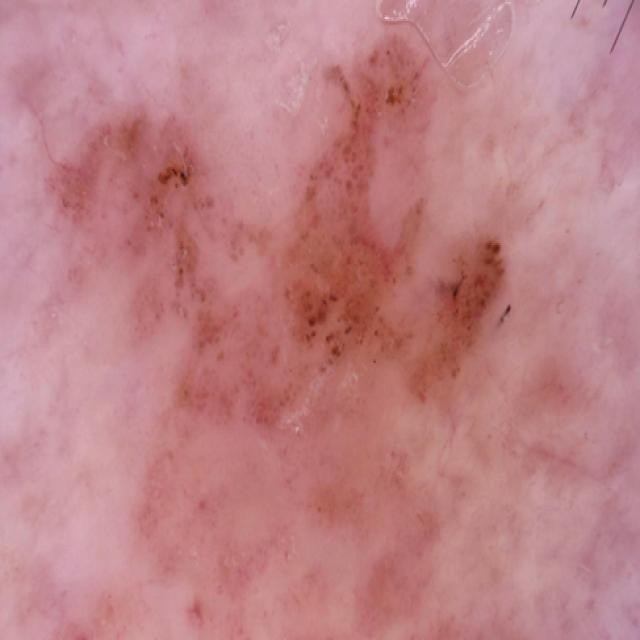Carcinoma: (44, 13, 638, 407)
